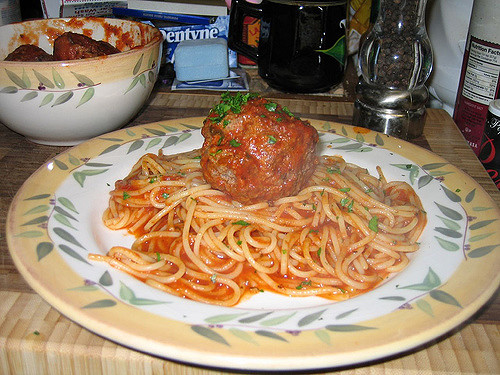meatballs: (206, 91, 306, 177)
plain spaghetti: (141, 182, 388, 277), (334, 159, 366, 189)
